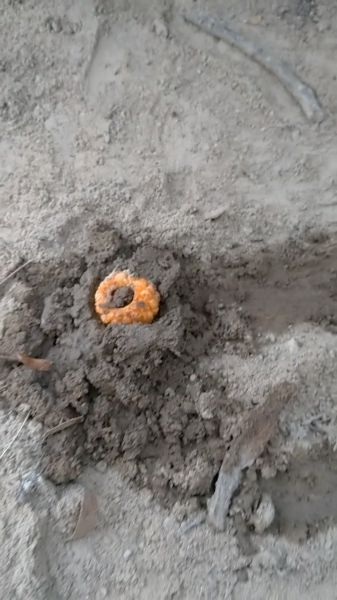eggs: (89, 265, 167, 333)
